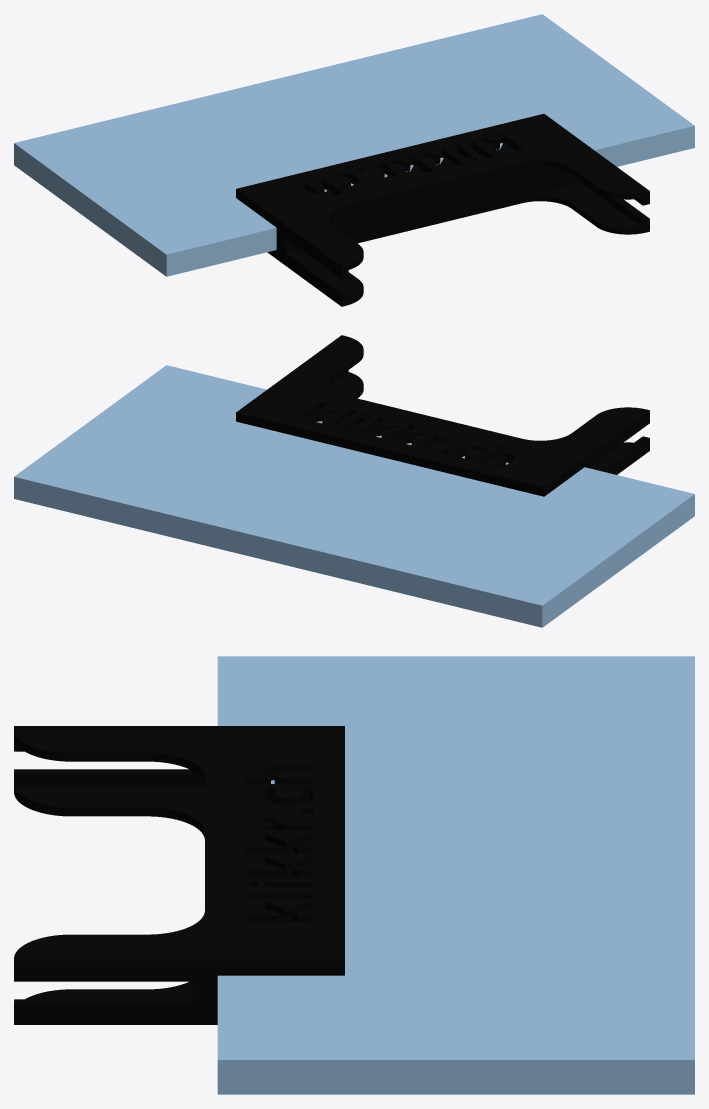
Rendered from halter.gltf.
The picture shows the model from 3 angles, top to bottom: view 1: azimuth 30°, elevation 25°; view 2: azimuth 150°, elevation 25°; view 3: azimuth 270°, elevation 25°; orthographic projection. The views are drawn at different scales.
Parts seen in each view (by area): view 1: Scheibe, Halter M; view 2: Scheibe, Halter M; view 3: Scheibe, Halter M.
Boxes of the visible parts, x1=… form: Scheibe: x1=14, y1=14, x2=694, y2=276; Halter M: x1=236, y1=114, x2=649, y2=306; Scheibe: x1=14, y1=365, x2=694, y2=627; Halter M: x1=236, y1=335, x2=649, y2=496; Scheibe: x1=217, y1=656, x2=694, y2=1094; Halter M: x1=14, y1=726, x2=344, y2=1024.
Size of the model in its own units: 0.3 by 0.022 by 0.214.
